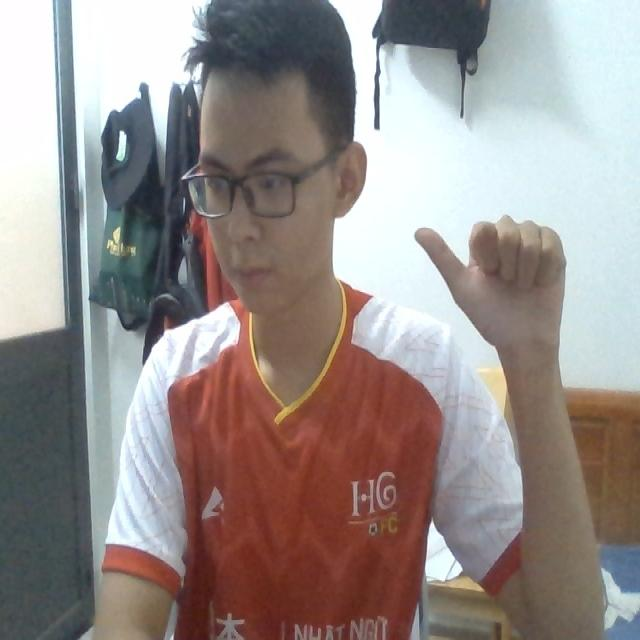A: (410, 210, 575, 369)
